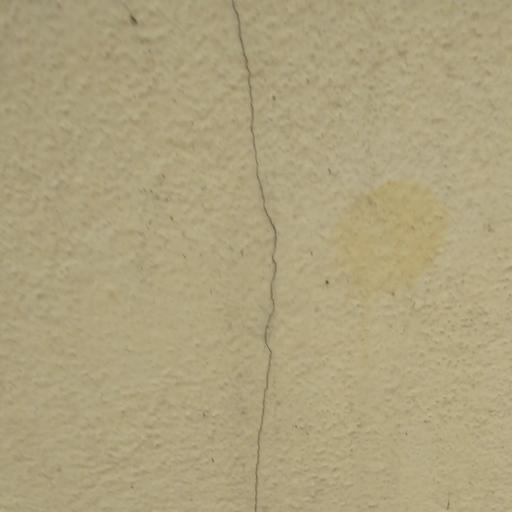minor_crack: (222, 0, 294, 512)
